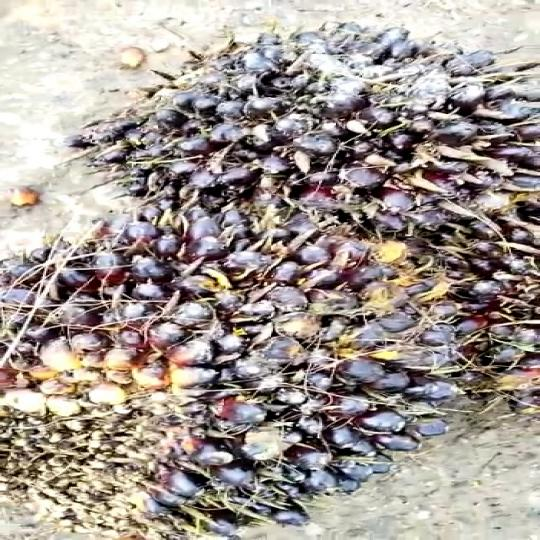mentah: (0, 196, 477, 533), (81, 18, 540, 216)
